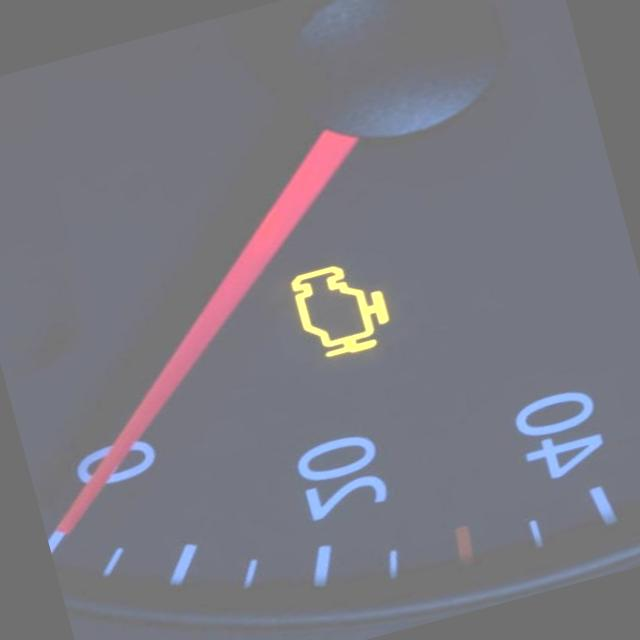kontrolka: (256, 228, 418, 382)
